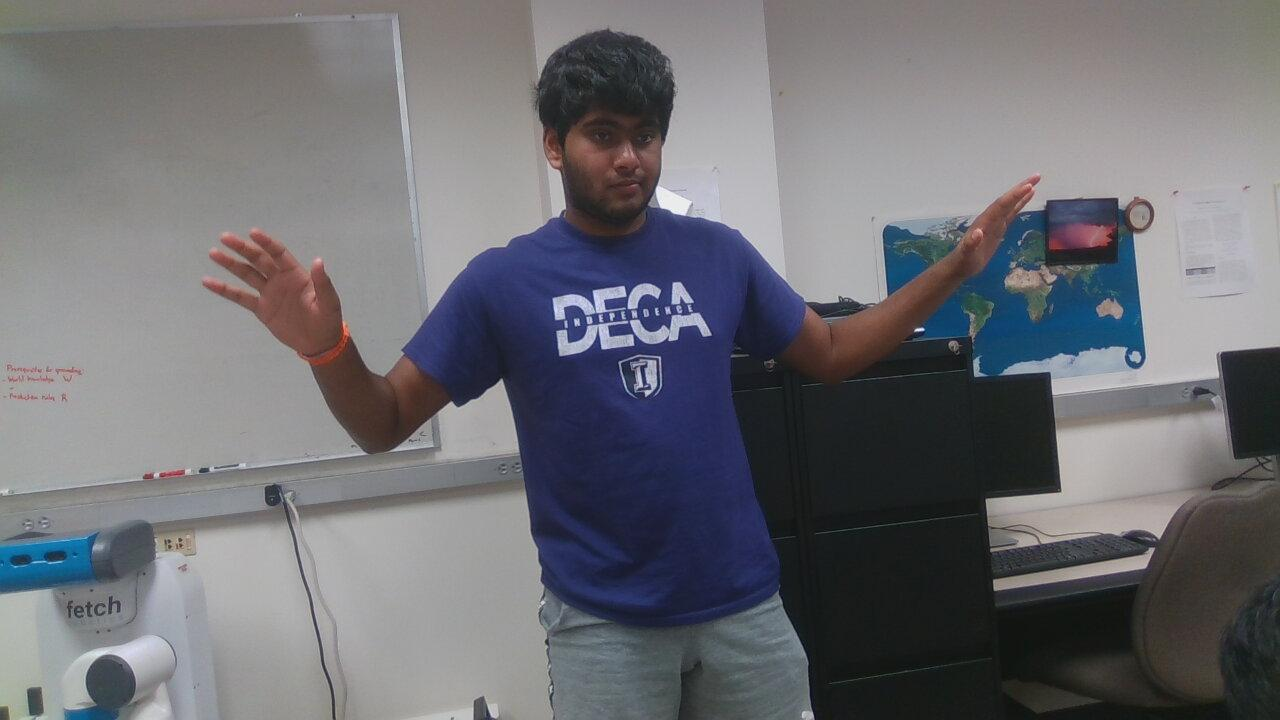hands: (191, 224, 349, 370), (946, 174, 1055, 281)
